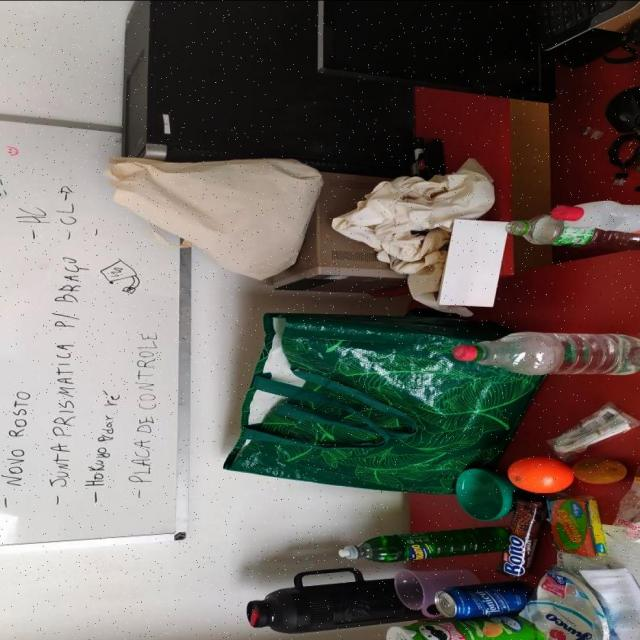Bag: (220, 311, 549, 494), (98, 154, 325, 280)
Bowl: (454, 468, 514, 521)
Cleaner: (337, 526, 511, 562)
Cookies: (496, 494, 548, 576)
Kiwi: (572, 456, 628, 484)
Mug: (392, 564, 481, 616)
Orange: (506, 456, 574, 494)
Plate: (531, 569, 610, 640)
Pringles: (383, 614, 552, 640)
Sponge: (550, 493, 607, 558)
Tonic: (436, 581, 536, 617)
